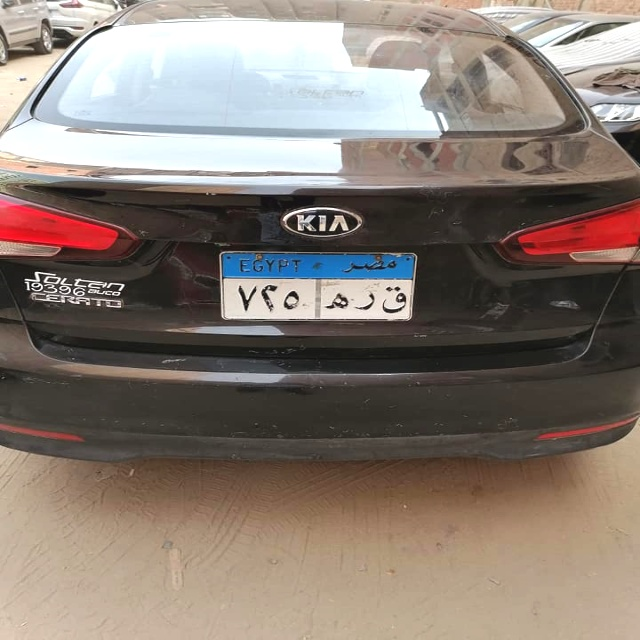License Plate: (218, 249, 420, 323)
